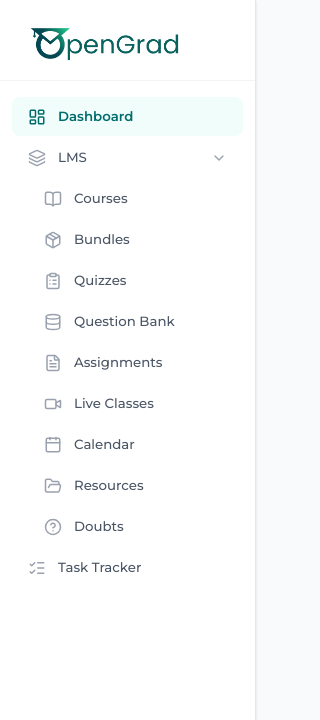
Scenario: Sidebar LMS group › toggling the header persists open state to localStorage
Click the button "LMS".
click(128, 158)  # box [12,138,243,177]
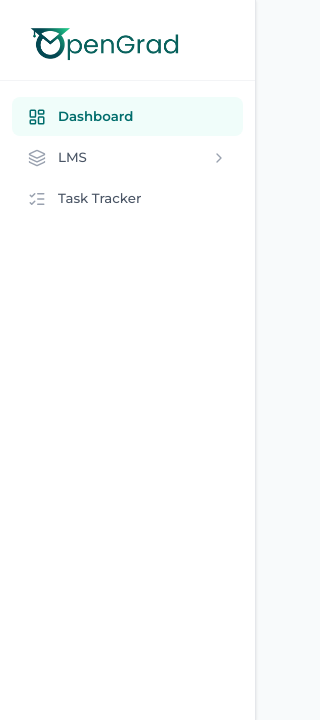
Result: the button "LMS" is collapsed at [12,138,243,177]
